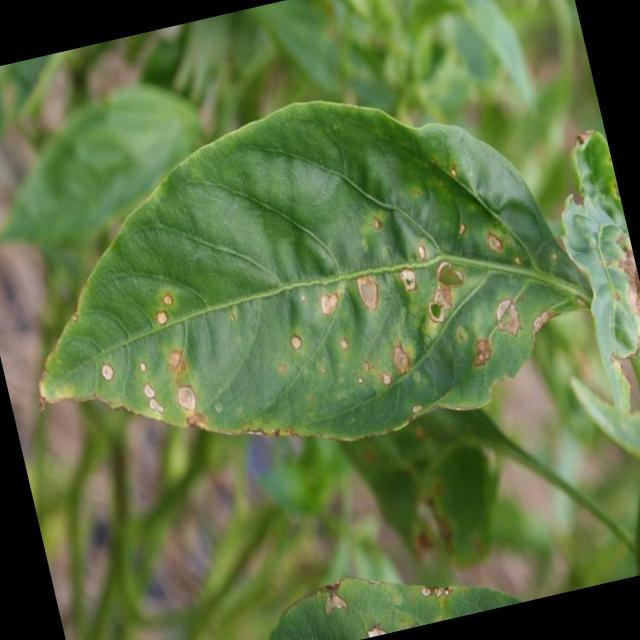Tomato leaf bacterial spot: (0, 52, 605, 515)
